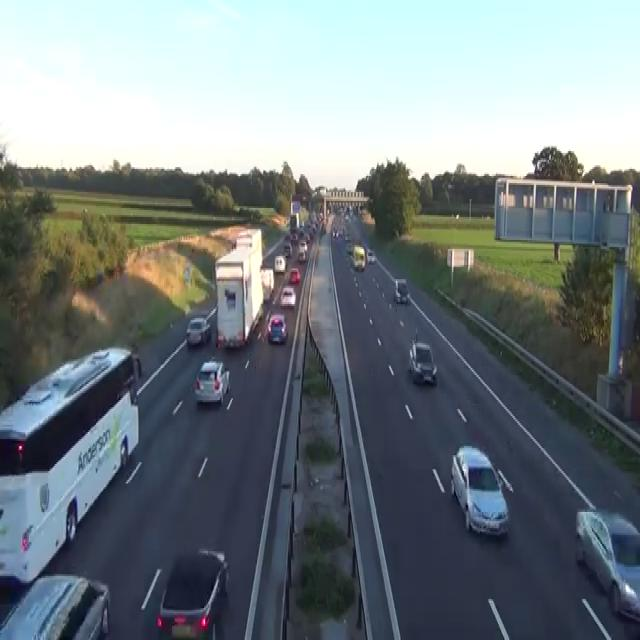Car: (280, 492, 367, 638), (574, 507, 639, 622), (0, 572, 110, 638), (155, 548, 229, 638), (450, 444, 511, 537), (194, 358, 230, 406), (408, 340, 437, 384), (186, 316, 211, 346), (267, 313, 287, 343), (609, 619, 639, 638), (393, 277, 409, 304), (280, 284, 296, 308), (84, 268, 104, 286), (131, 352, 142, 380), (236, 229, 252, 247), (274, 254, 286, 274), (289, 266, 300, 282), (283, 240, 292, 258), (367, 247, 375, 263), (271, 215, 280, 226), (298, 238, 307, 249), (345, 242, 353, 254), (289, 231, 297, 242), (344, 231, 350, 242), (320, 222, 326, 233), (284, 233, 290, 242), (284, 217, 289, 226)
Truck: (0, 345, 141, 585), (214, 228, 263, 348), (261, 268, 274, 300), (352, 244, 365, 270)
